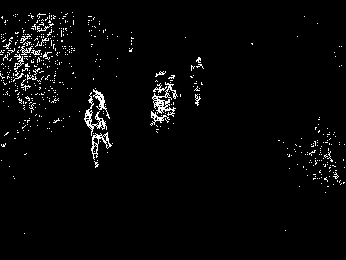person: (81, 89, 113, 171)
